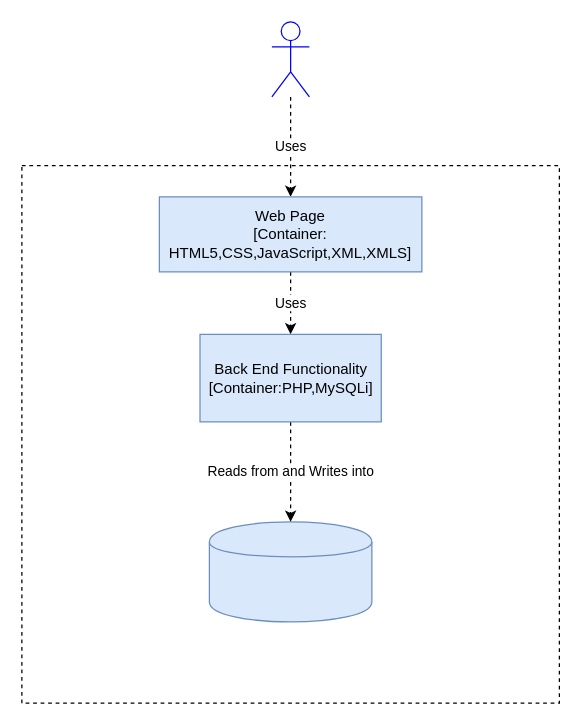
Image size: 581x725. Some labels were removed from this diagram. Here are the shapes that lost their labels. From the top down, the box of each, then its label:
(271, 21, 309, 97): User
(208, 521, 372, 622): Database [Container:MySQL]
